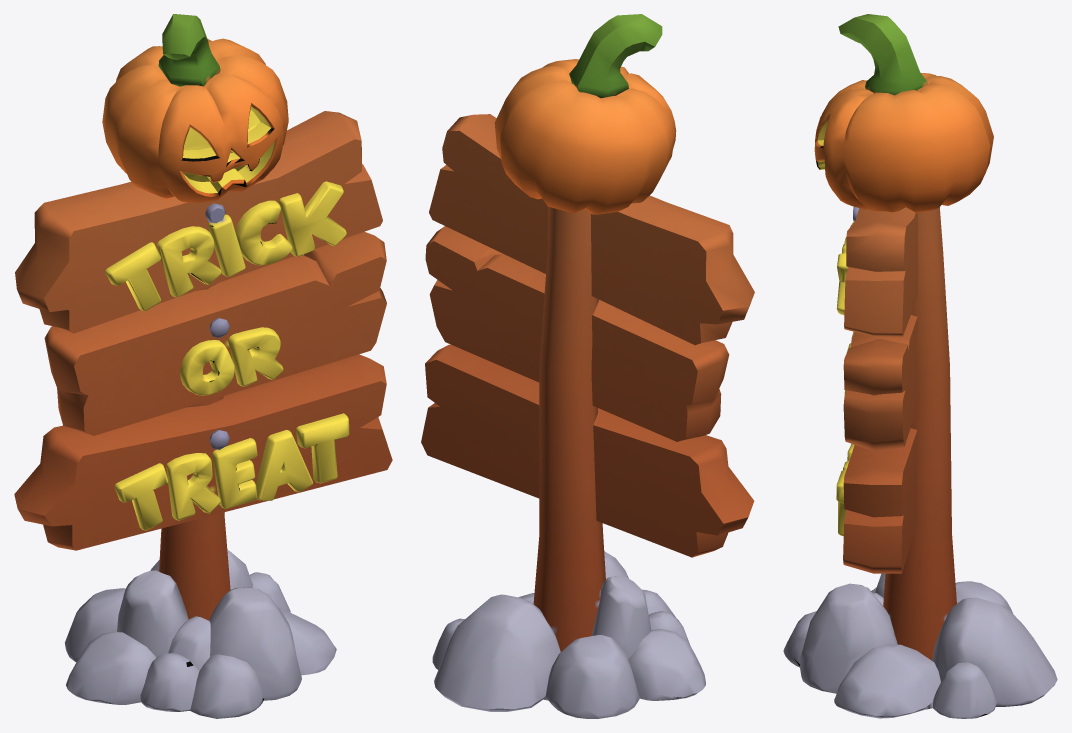
The model's file is kit-sign.glb.
The picture shows the model from 3 angles, left to right: view 1: azimuth 30°, elevation 25°; view 2: azimuth 150°, elevation 25°; view 3: azimuth 270°, elevation 25°; orthographic projection. The views are drawn at different scales.
Parts seen in each view (by area): view 1: WBA_Sign_Halloween_01_WBA_MAT_Halloween_Atlas_0.001; view 2: WBA_Sign_Halloween_01_WBA_MAT_Halloween_Atlas_0.001; view 3: WBA_Sign_Halloween_01_WBA_MAT_Halloween_Atlas_0.001.
Boxes of the visible parts, box(x1,y1,x2,y2) form: WBA_Sign_Halloween_01_WBA_MAT_Halloween_Atlas_0.001: box(14, 14, 392, 718); WBA_Sign_Halloween_01_WBA_MAT_Halloween_Atlas_0.001: box(421, 14, 754, 718); WBA_Sign_Halloween_01_WBA_MAT_Halloween_Atlas_0.001: box(783, 14, 1057, 718).
Bounding box in the file's own units: 0.5463 × 0.9995 × 0.393.
1 material, 1 textured.
